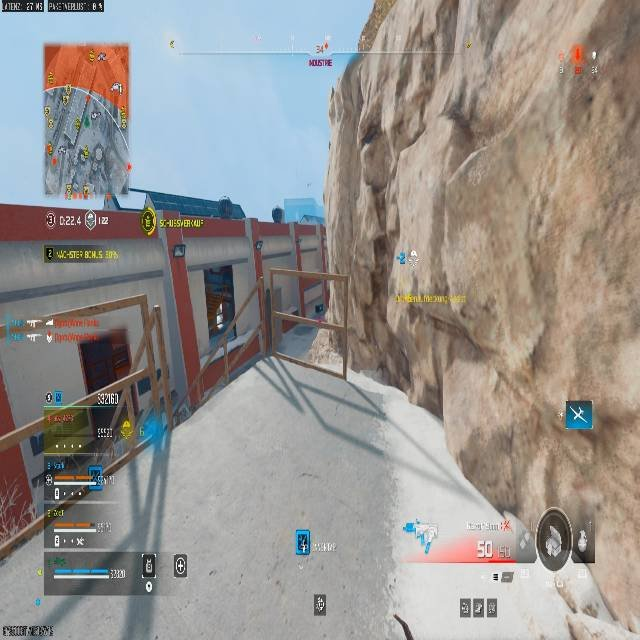player: (271, 206, 283, 222)
